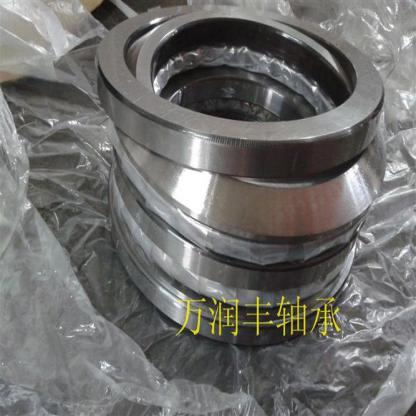FOD: (92, 3, 388, 182)
